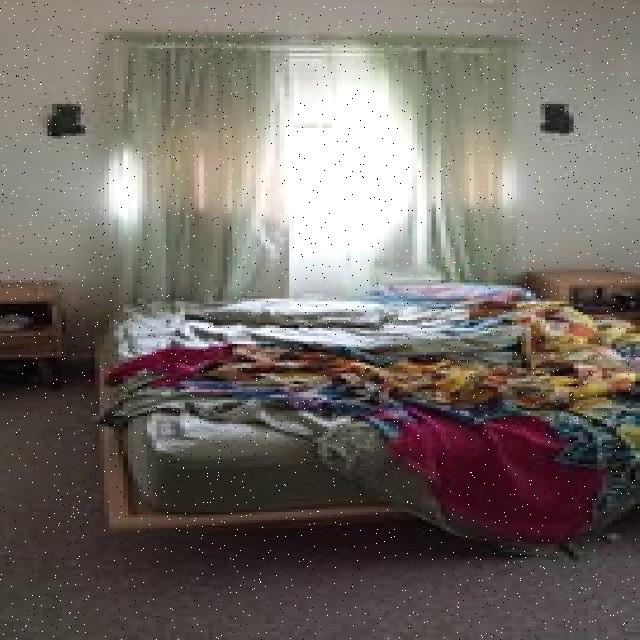bed: (103, 276, 640, 524)
